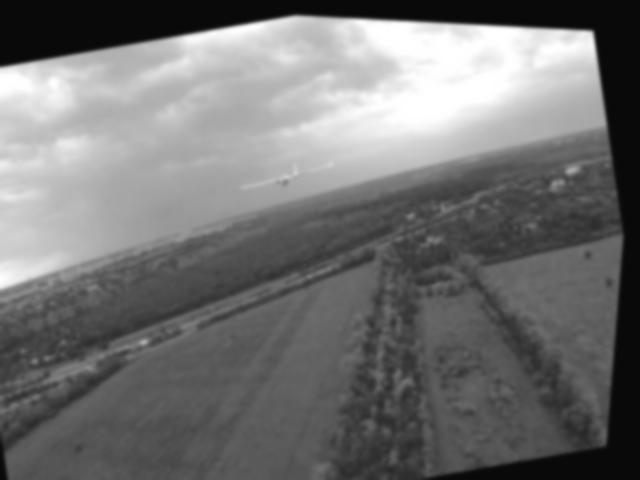hedef: (237, 140, 345, 204)
